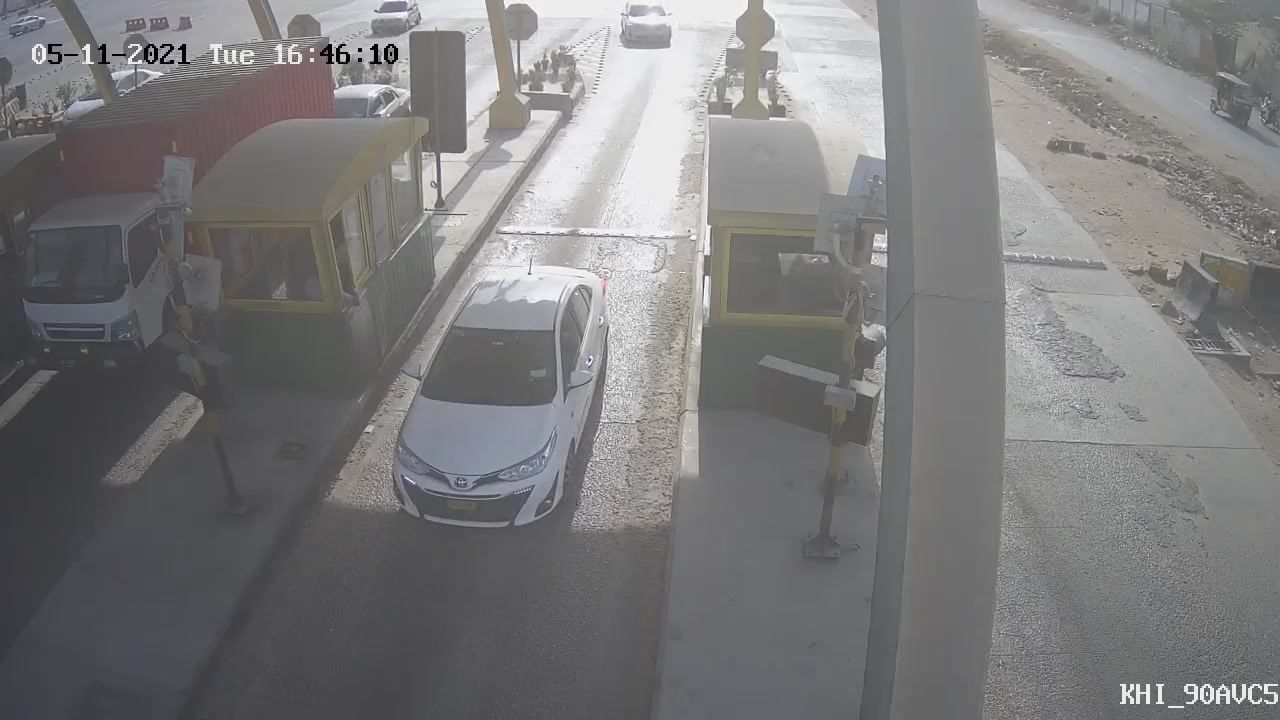F1: (374, 238, 623, 552)
